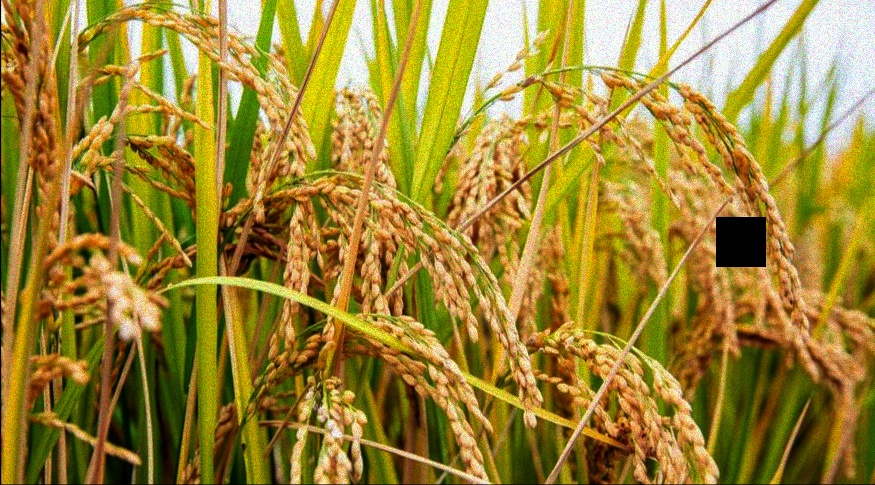rice: (539, 57, 824, 334), (209, 162, 487, 326), (251, 308, 490, 478), (80, 4, 325, 163), (497, 324, 718, 481)
